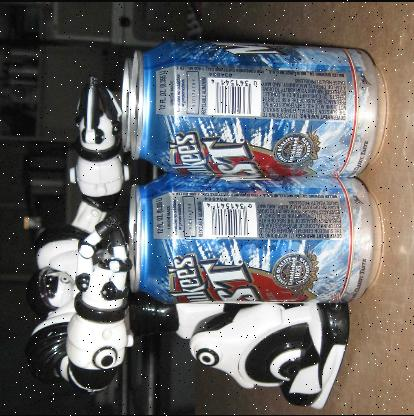Can: (125, 30, 391, 181), (125, 174, 386, 304)
